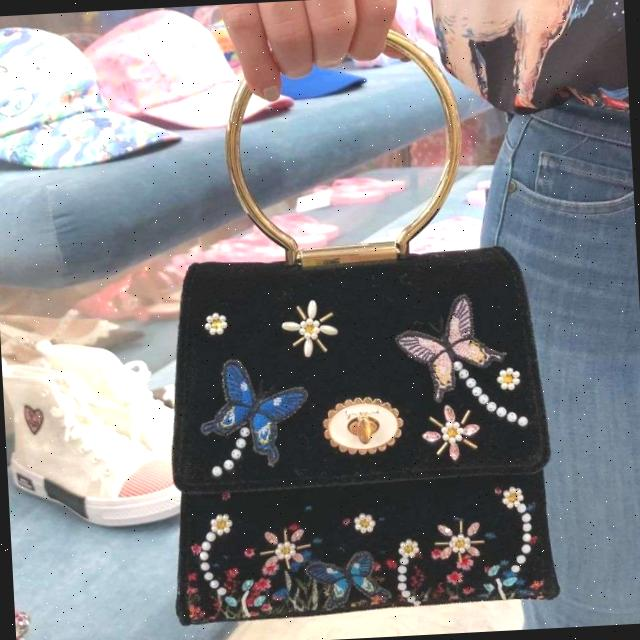Handbag: (156, 215, 560, 628)
